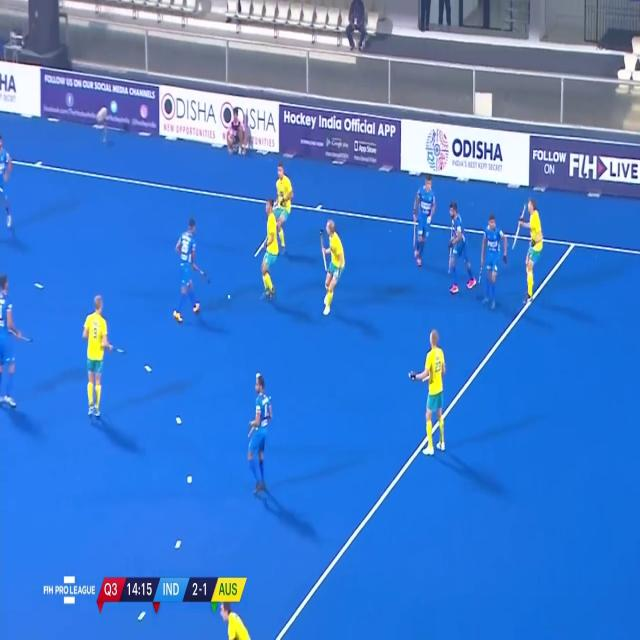ball: (226, 292, 232, 302)
